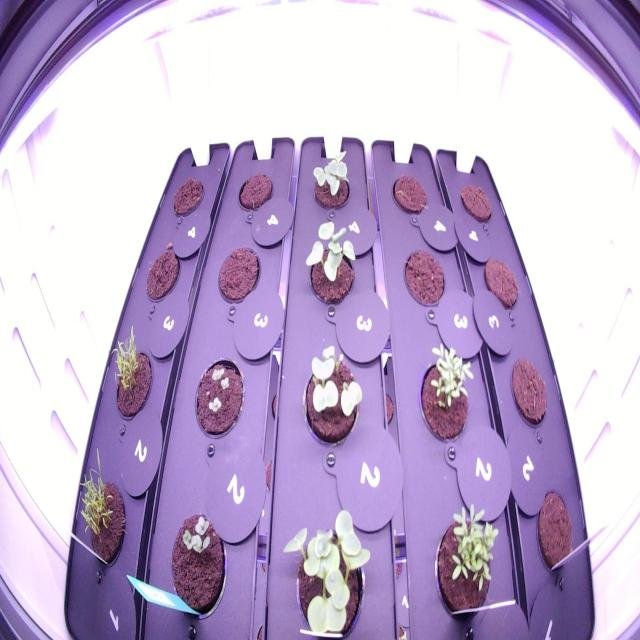germination: (426, 498, 504, 633), (75, 444, 136, 581), (412, 338, 480, 460), (162, 506, 230, 626), (105, 324, 164, 424), (192, 350, 246, 441)
pod: (534, 483, 578, 587), (507, 347, 550, 436), (214, 240, 263, 308), (397, 244, 447, 310), (141, 245, 182, 304), (482, 254, 522, 313), (388, 169, 430, 220), (458, 177, 496, 228), (234, 169, 275, 215), (168, 172, 206, 219)
